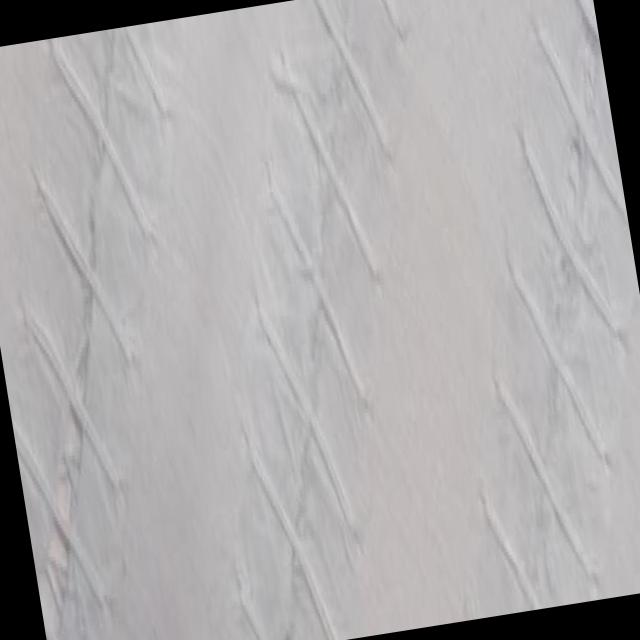gray stitch: (184, 1, 462, 638), (0, 31, 240, 640), (408, 0, 640, 614)
